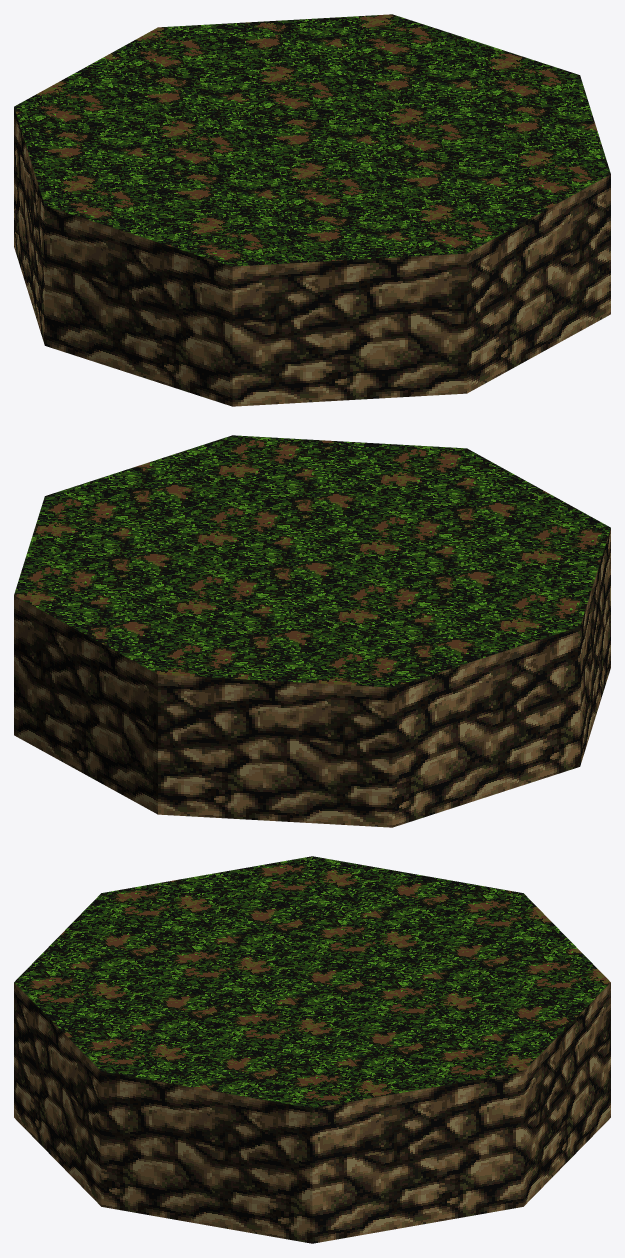
File: Platform.fbx
The picture shows the model from 3 angles, top to bottom: view 1: azimuth 30°, elevation 25°; view 2: azimuth 150°, elevation 25°; view 3: azimuth 270°, elevation 25°; orthographic projection. The views are drawn at different scales.
Visible parts, largest first — view 1: Cylinder; view 2: Cylinder; view 3: Cylinder.
Boxes of the visible parts, bbox=[...] form: Cylinder: bbox=[14, 14, 610, 406]; Cylinder: bbox=[14, 435, 610, 827]; Cylinder: bbox=[14, 856, 610, 1243].
Bounding box in the file's own units: 200 × 50 × 200.
Materials: 2 (2 with a texture image).
